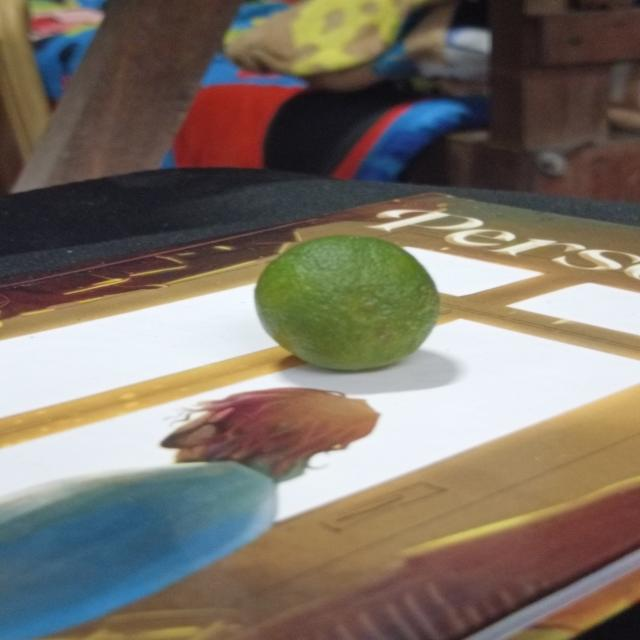heathy: (256, 232, 444, 372)
